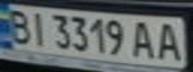1: (87, 15, 109, 54)
3: (48, 11, 72, 51), (66, 14, 90, 53)
9: (103, 17, 130, 56)
A: (151, 19, 187, 62), (127, 18, 160, 60)
B: (3, 7, 33, 45)
I: (24, 9, 51, 47)
